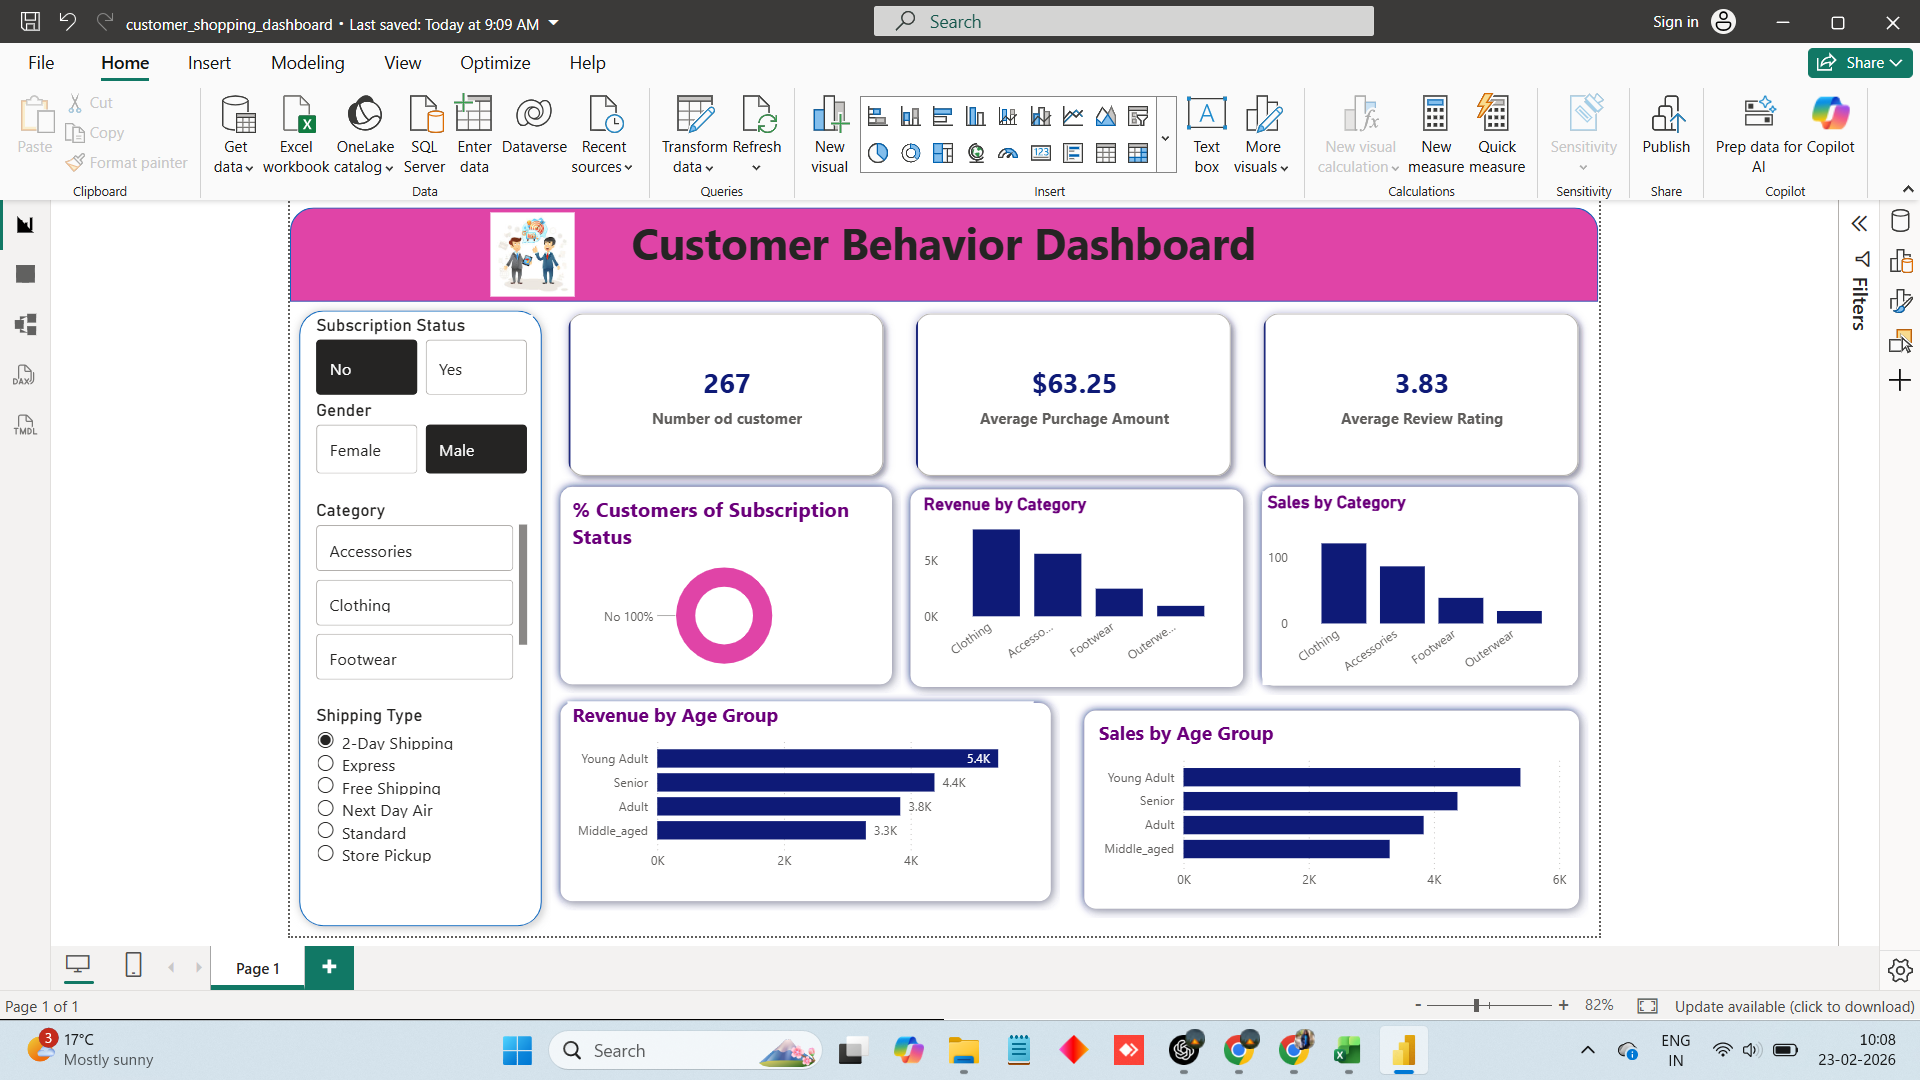

The page's visual inventory and layout, read from the dashboard file:
{"tool":"powerbi","page":{"name":"Page 1","canvas":[1280,720],"ordinal":0},"visuals":[{"type":"cardVisual","fields":{"Data":["customer_shopping customer.Number od customer","customer_shopping customer.Average Purchage Amount","customer_shopping customer.Average Review Rating"]},"box":[255.6,94.2,1024.7,193.2],"z":0},{"type":"shape","box":[255.6,271.5,342.4,211.6],"z":1000},{"type":"shape","box":[0,7.2,1279.7,92.3],"z":2000},{"type":"textbox","box":[10.1,7.2,1259.5,69.3],"z":3000},{"type":"donutChart","title":"% Customers of Subscription Status","fields":{"Category":["customer_shopping customer.subscription_status"],"Y":["CountNonNull(customer_shopping customer.customer_id)"]},"box":[271.5,288.6,306.9,183.4],"z":4000},{"type":"shape","box":[598,273.9,343.6,211.6],"z":5000},{"type":"shape","box":[941.6,271.5,327.7,212.8],"z":6000},{"type":"clusteredColumnChart","title":"Revenue by Category","fields":{"Category":["customer_shopping customer.category"],"Y":["Sum(customer_shopping customer.purchase_amount)"]},"box":[615.1,287.4,310.6,176.1],"z":7000},{"type":"clusteredColumnChart","title":"Sales by Category","fields":{"Category":["customer_shopping customer.category"],"Y":["CountNonNull(customer_shopping customer.customer_id)"]},"box":[951.4,284.9,303.3,189.5],"z":8000},{"type":"shape","box":[0,99.6,255.4,620.4],"z":9000},{"type":"advancedSlicerVisual","fields":{"Values":["customer_shopping customer.subscription_status"]},"box":[20.2,112.5,216.4,83.7],"z":10000},{"type":"advancedSlicerVisual","fields":{"Values":["customer_shopping customer.gender"]},"box":[20.2,196.2,216.4,77.9],"z":11000},{"type":"advancedSlicerVisual","fields":{"Values":["customer_shopping customer.category"]},"box":[20.2,292.9,216.4,180.3],"z":12000},{"type":"shape","box":[255.4,483.3,497.8,212.1],"z":12500},{"type":"clusteredBarChart","title":"Revenue by Age Group","fields":{"Category":["customer_shopping customer.age_group"],"Y":["Sum(customer_shopping customer.purchase_amount)"]},"box":[271.2,490.5,455.9,174.6],"z":13000},{"type":"listSlicer","fields":{"Values":["customer_shopping customer.shipping_type"]},"box":[20.2,493.4,216.4,209.2],"z":14000},{"type":"shape","box":[767.5,490.5,502.1,212.1],"z":15001},{"type":"clusteredBarChart","title":"Sales by Age Group","fields":{"Category":["customer_shopping customer.age_group"],"Y":["Sum(customer_shopping customer.purchase_amount)"]},"box":[786.3,509.3,467.5,174.6],"z":15002},{"type":"image","box":[173.1,7.2,127,92.3],"z":15003}]}

Visuals, with their boxes on the page's 1280x720 design canvas (x1, y1, x2, y2). These are canvas units, not pixel positions in the 1920x1080 screenshot, which may show the page scaled, cropped or inside an application window:
cardVisual - customer_shopping customer.Number od customer x customer_shopping customer.Average Purchage Amount: Rect(256, 94, 1280, 287)
shape: Rect(256, 272, 598, 483)
shape: Rect(0, 7, 1280, 100)
textbox: Rect(10, 7, 1270, 76)
"% Customers of Subscription Status" donutChart: Rect(272, 289, 578, 472)
shape: Rect(598, 274, 942, 486)
shape: Rect(942, 272, 1269, 484)
"Revenue by Category" clusteredColumnChart: Rect(615, 287, 926, 464)
"Sales by Category" clusteredColumnChart: Rect(951, 285, 1255, 474)
shape: Rect(0, 100, 255, 720)
advancedSlicerVisual - customer_shopping customer.subscription_status: Rect(20, 112, 237, 196)
advancedSlicerVisual - customer_shopping customer.gender: Rect(20, 196, 237, 274)
advancedSlicerVisual - customer_shopping customer.category: Rect(20, 293, 237, 473)
shape: Rect(255, 483, 753, 695)
"Revenue by Age Group" clusteredBarChart: Rect(271, 490, 727, 665)
listSlicer - customer_shopping customer.shipping_type: Rect(20, 493, 237, 703)
shape: Rect(768, 490, 1270, 703)
"Sales by Age Group" clusteredBarChart: Rect(786, 509, 1254, 684)
image: Rect(173, 7, 300, 100)
